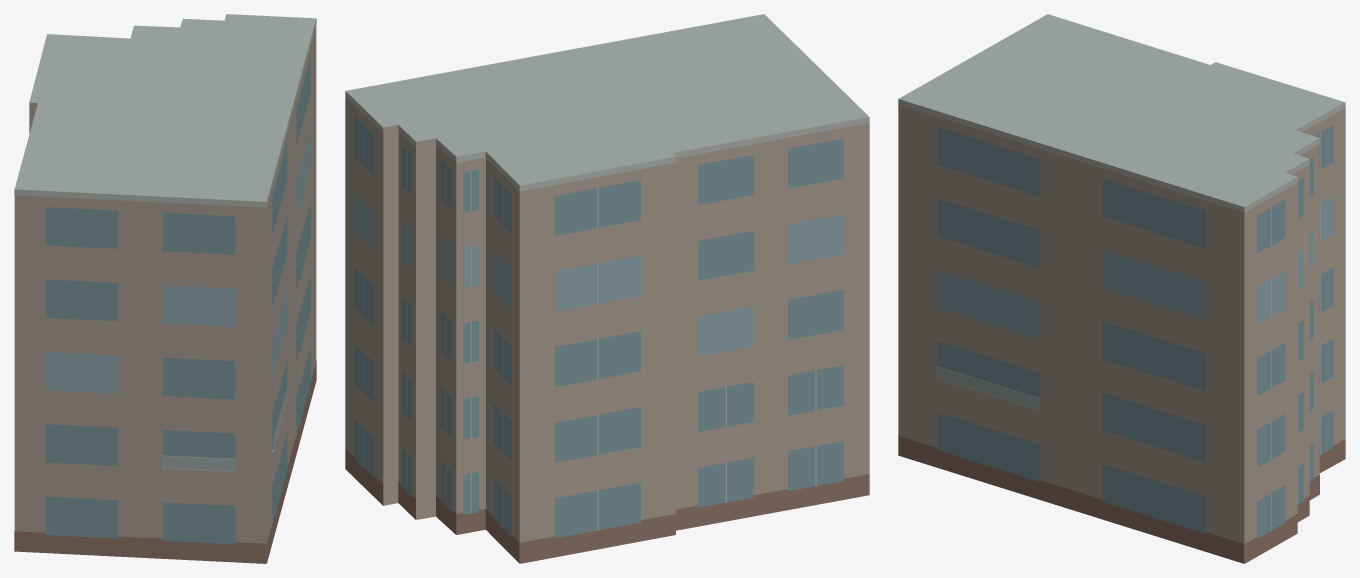
File: survey-upis-32511273.glb
3 renders of one model, left to right at view 1: azimuth 30°, elevation 25°; view 2: azimuth 150°, elevation 25°; view 3: azimuth 270°, elevation 25°, orthographic. The views are drawn at different scales.
Visible parts, largest first — view 1: survey-upis-32511273.tmp; view 2: survey-upis-32511273.tmp; view 3: survey-upis-32511273.tmp.
Boxes of the visible parts, x1=… form: survey-upis-32511273.tmp: x1=14, y1=14, x2=316, y2=563; survey-upis-32511273.tmp: x1=345, y1=14, x2=869, y2=563; survey-upis-32511273.tmp: x1=898, y1=14, x2=1345, y2=563.
Bounding box in the file's own units: 17.72 × 15.25 × 17.33.
